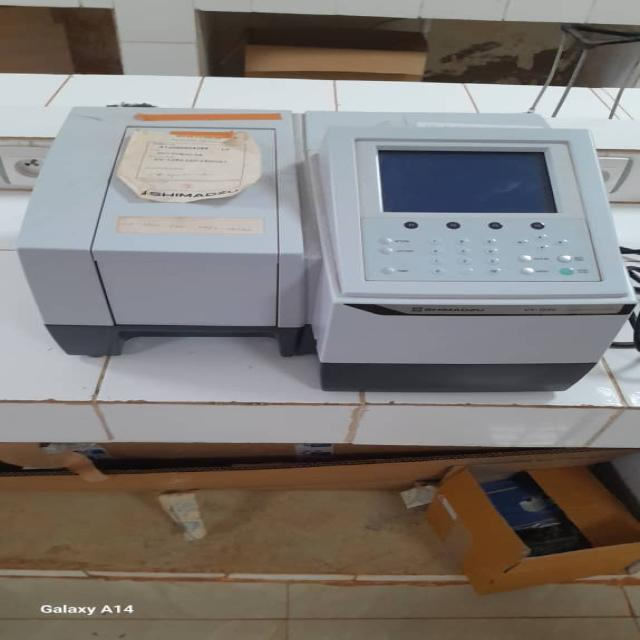Spectrophotometer: (7, 107, 629, 391)
